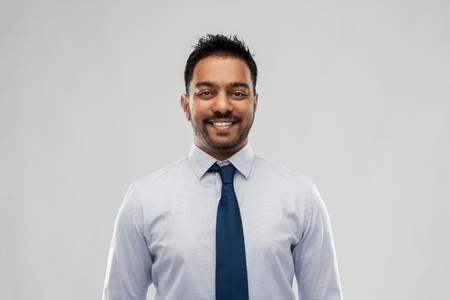F_shirt: (104, 143, 344, 300)
F_tie: (206, 163, 249, 300)
